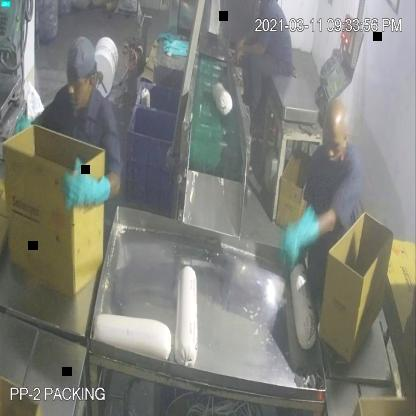no_glove: (230, 35, 273, 71)
